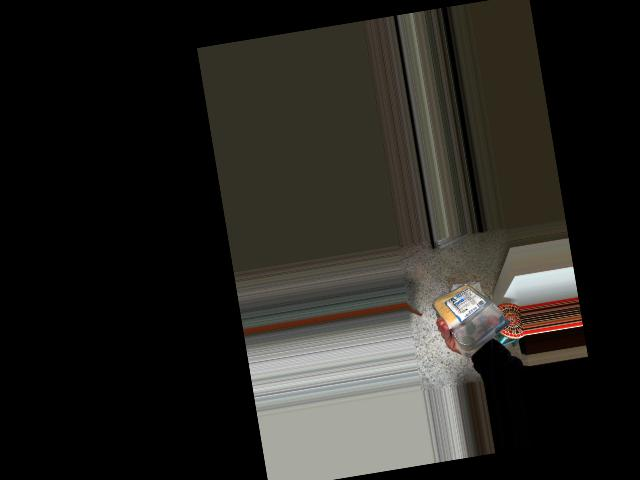cheese: (438, 271, 514, 355)
